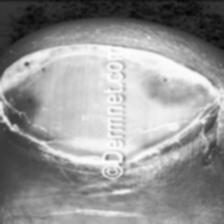Non-Cancerous Skin Condition: (122, 52, 224, 220), (5, 37, 106, 174)
